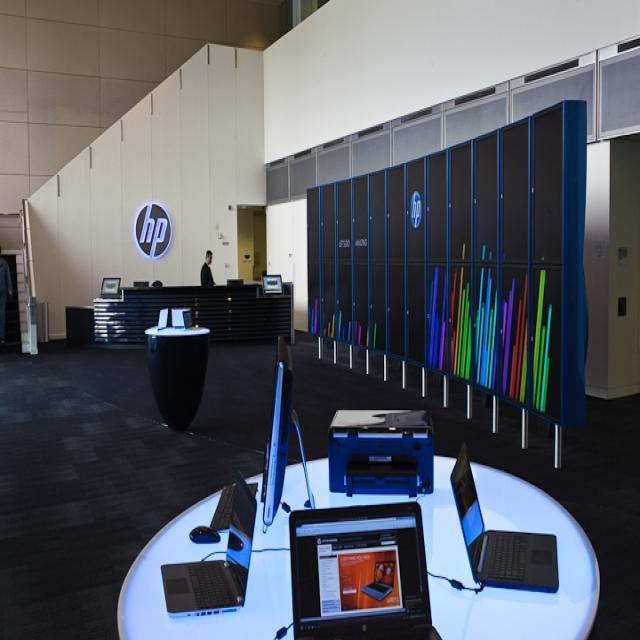HP: (135, 203, 173, 262), (410, 192, 424, 228)
